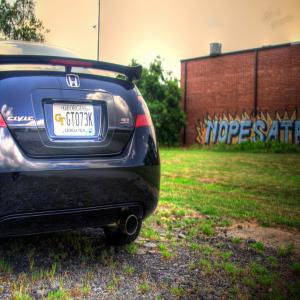Vehicle-registration-plate: (48, 96, 99, 144)
